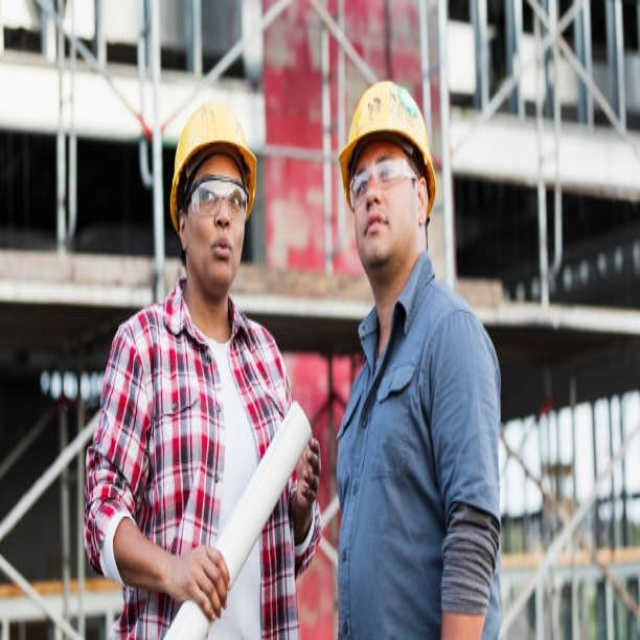Gafas: (351, 156, 420, 209), (186, 181, 250, 222)
Sin_guantes: (177, 536, 231, 621), (292, 436, 319, 510)
Sin_mascara: (203, 226, 238, 277), (360, 209, 393, 260)
